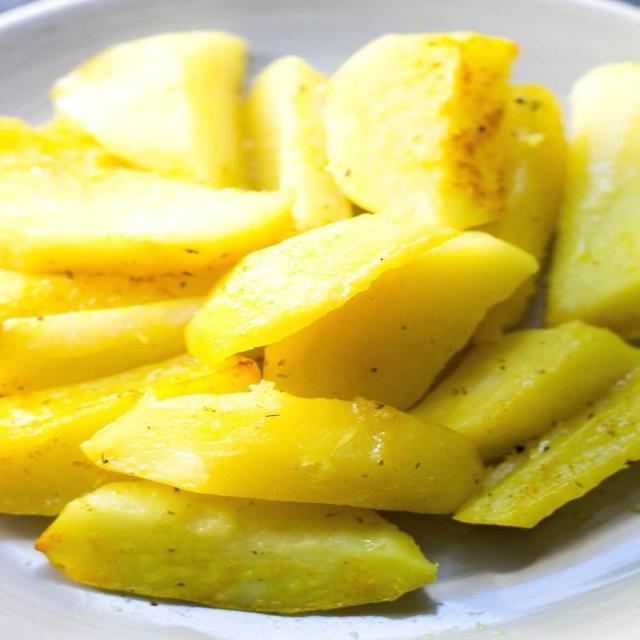papa: (0, 32, 633, 622)
